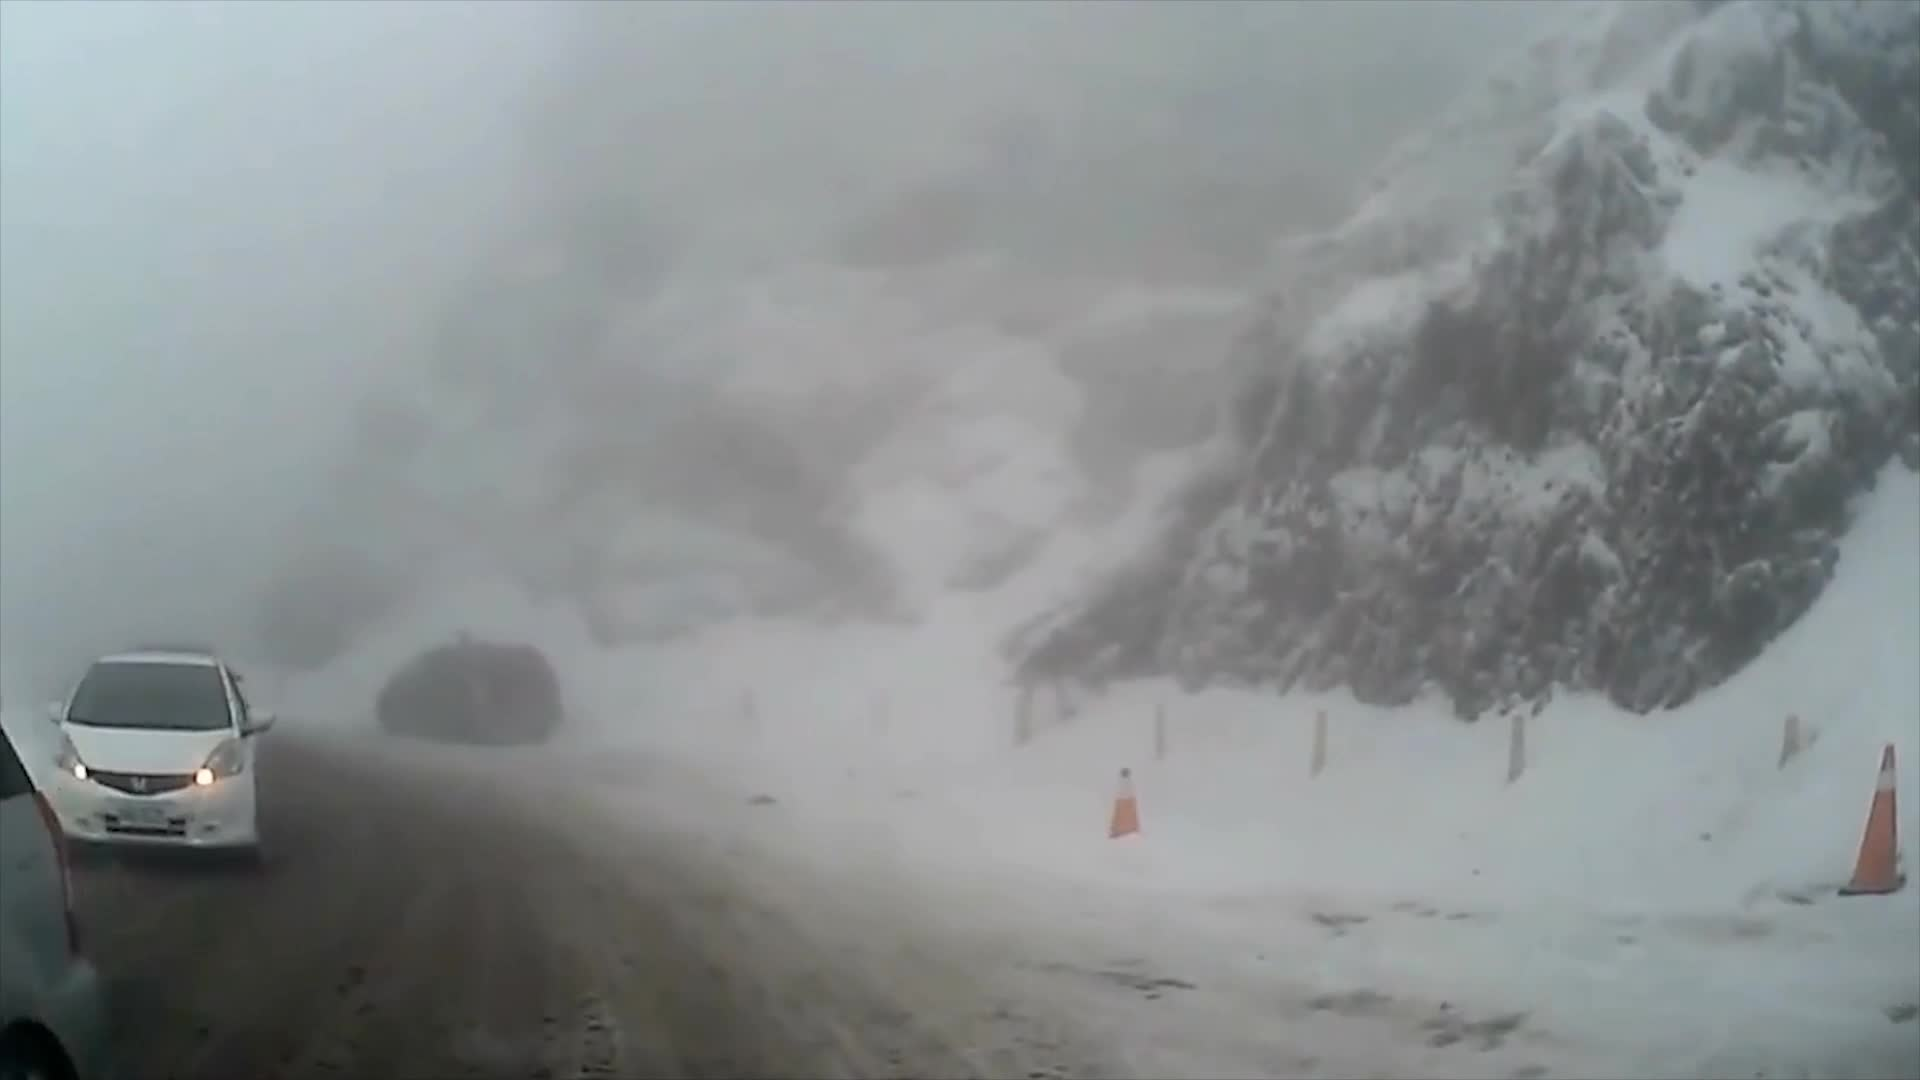vehicle: (36, 649, 273, 872), (0, 725, 111, 1080), (378, 646, 566, 752)
